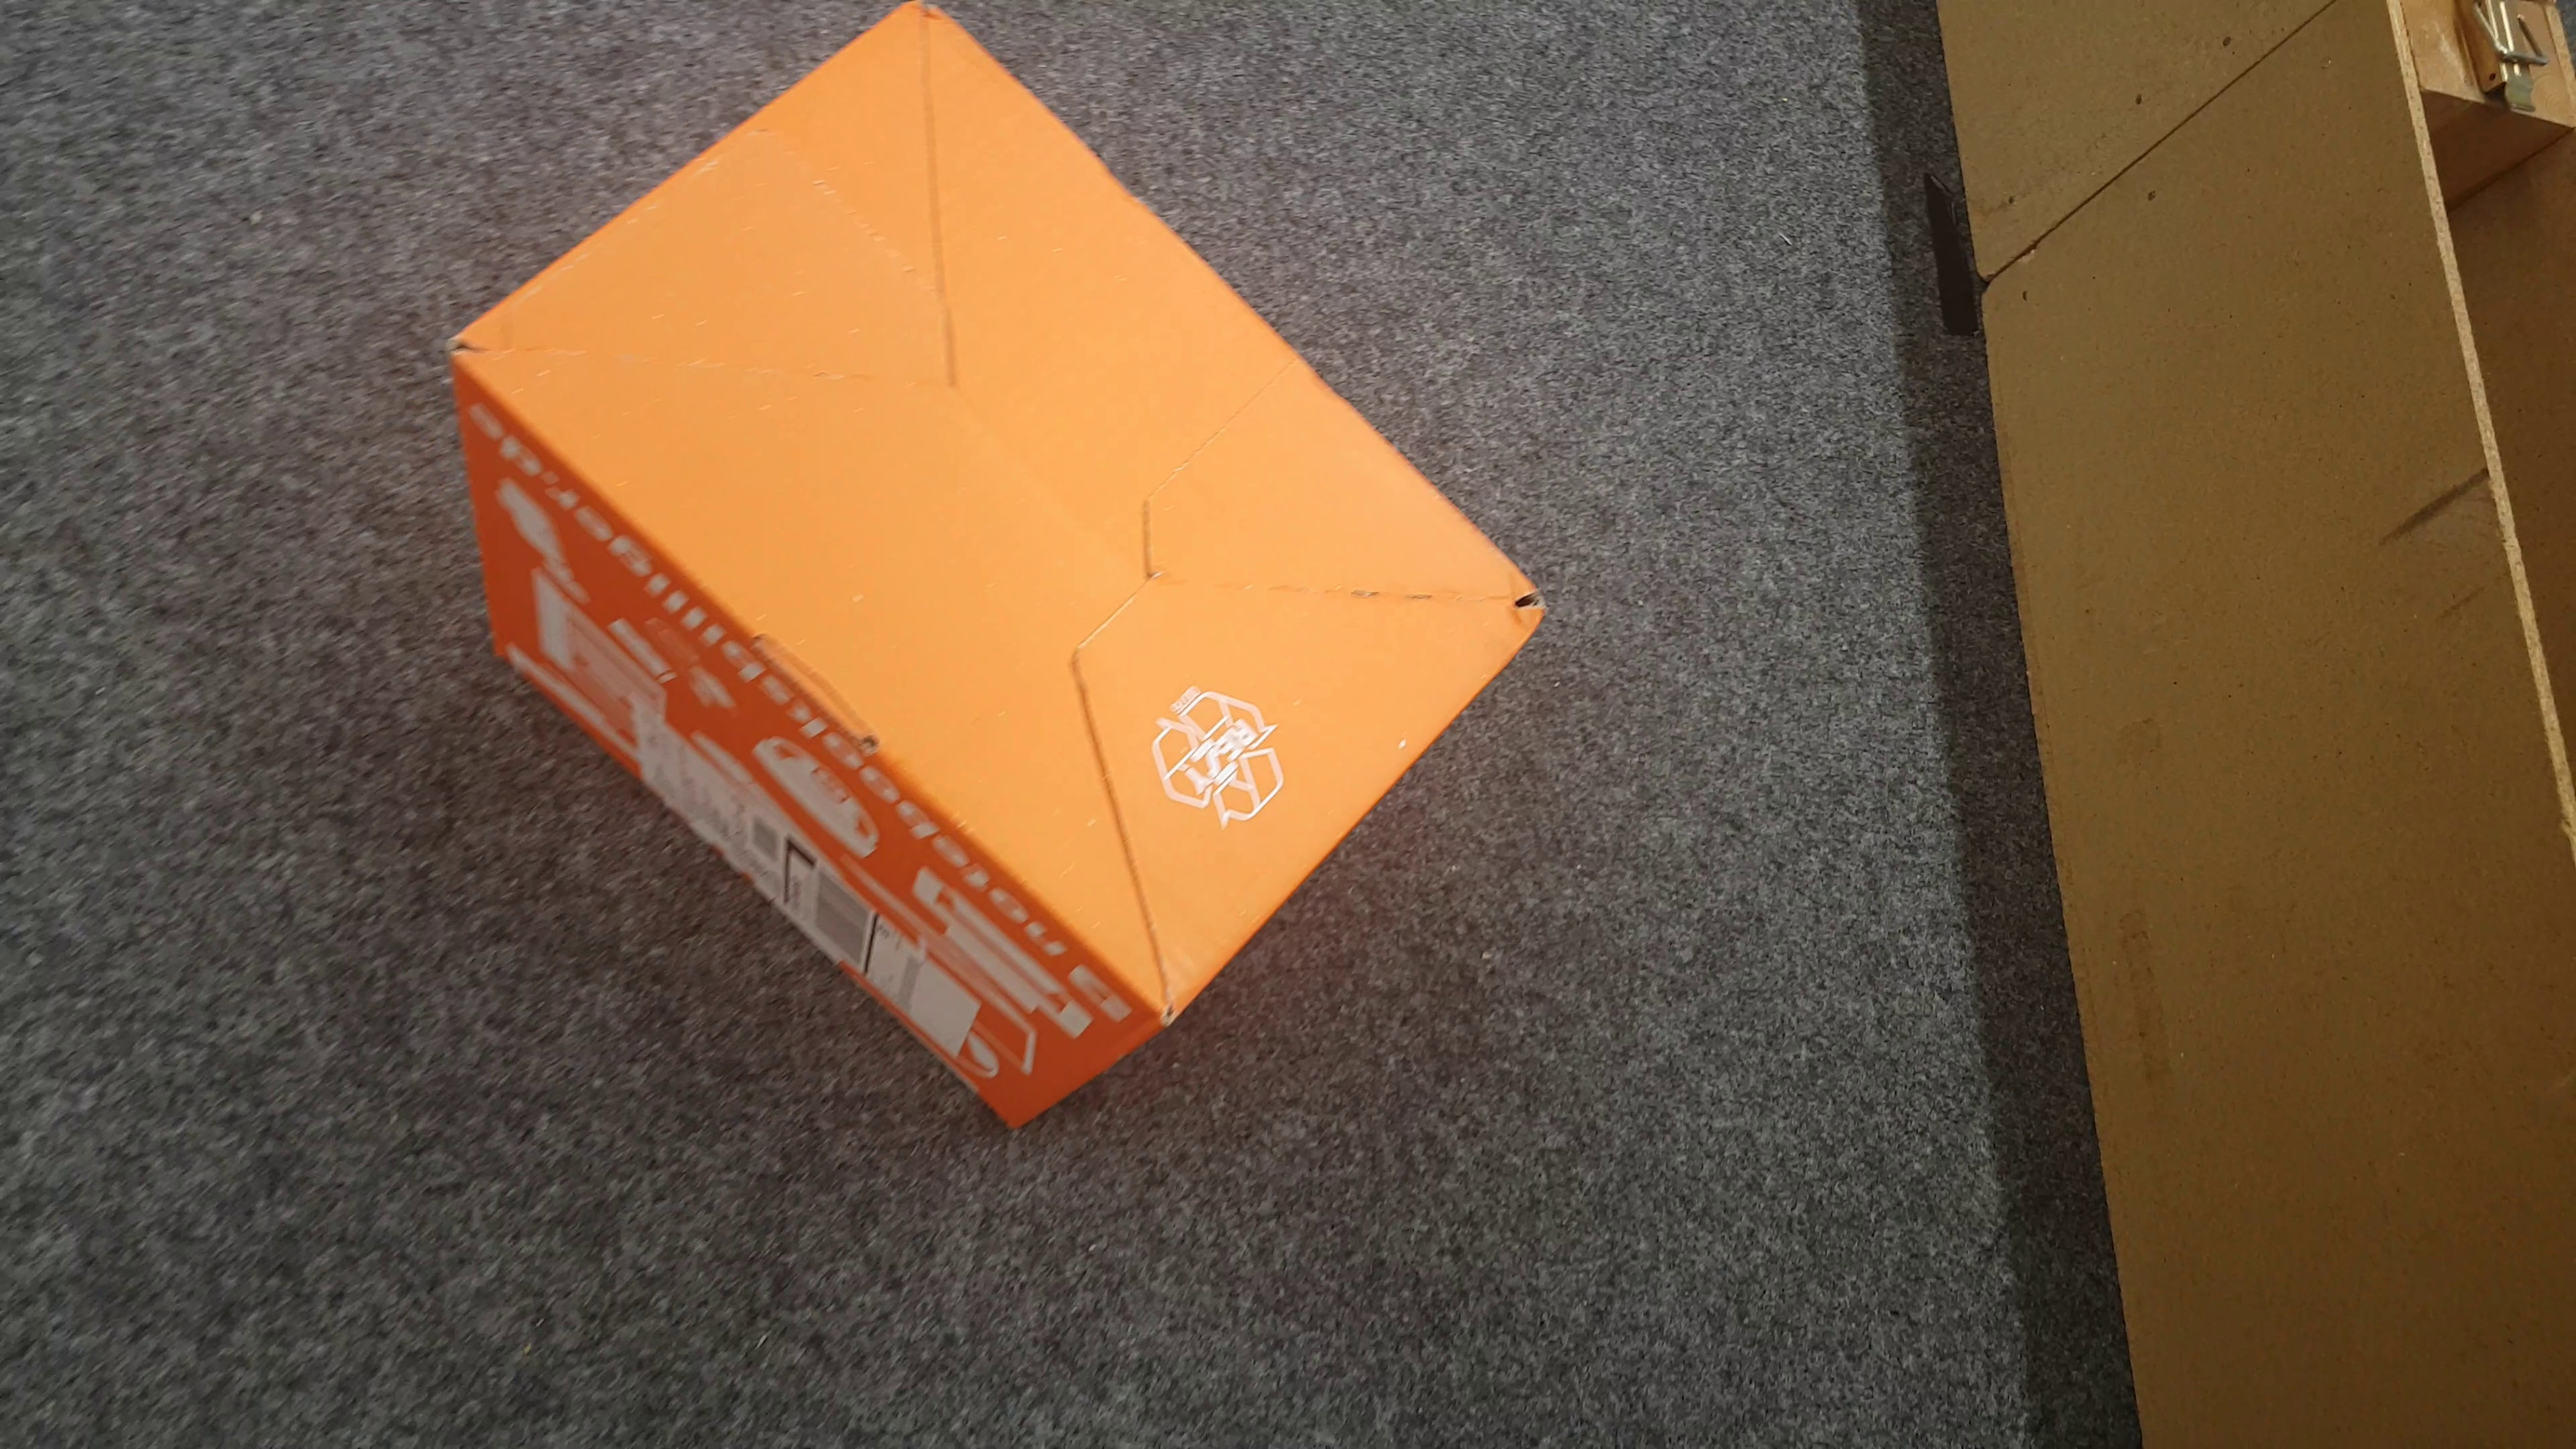push: (449, 2, 1552, 1129)
